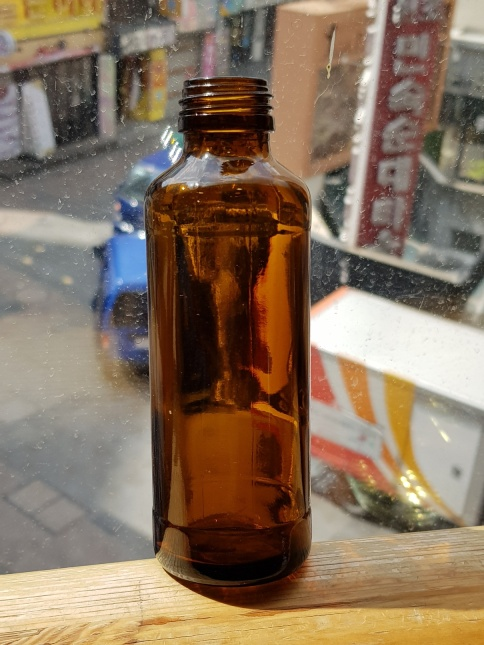Glass: (133, 74, 321, 592)
